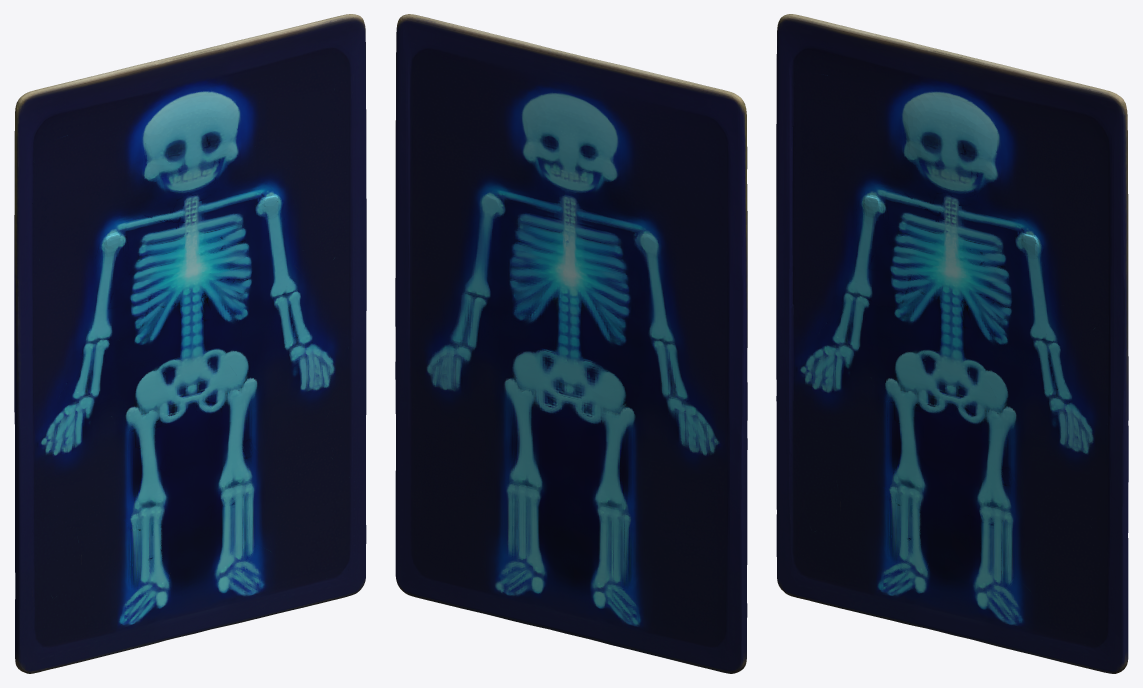
File: tecnecio.fbx
3 views of the same model, side by side, from view 1: azimuth 30°, elevation 25°; view 2: azimuth 150°, elevation 25°; view 3: azimuth 330°, elevation 25° (orthographic).
Visible parts, largest first — view 1: world; view 2: world; view 3: world.
Boxes of the visible parts, x1,y1,x2,y2 form: world: (14, 14, 366, 673); world: (395, 14, 747, 673); world: (776, 14, 1128, 673).
Bounding box in the file's own units: 1.86 × 63.22 × 100.
1 material, 1 textured.
